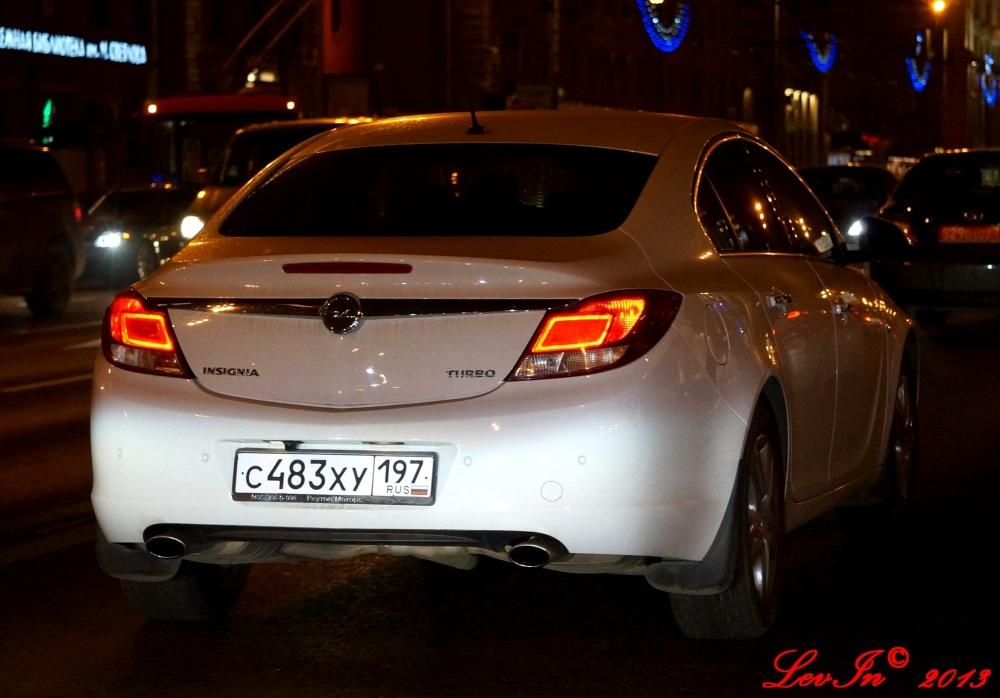license-plateSW: (234, 453, 436, 497)
